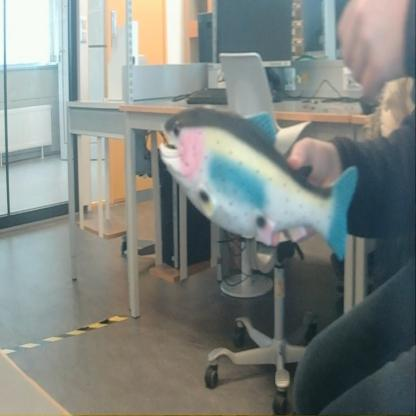rubberfish: (155, 101, 361, 266)
